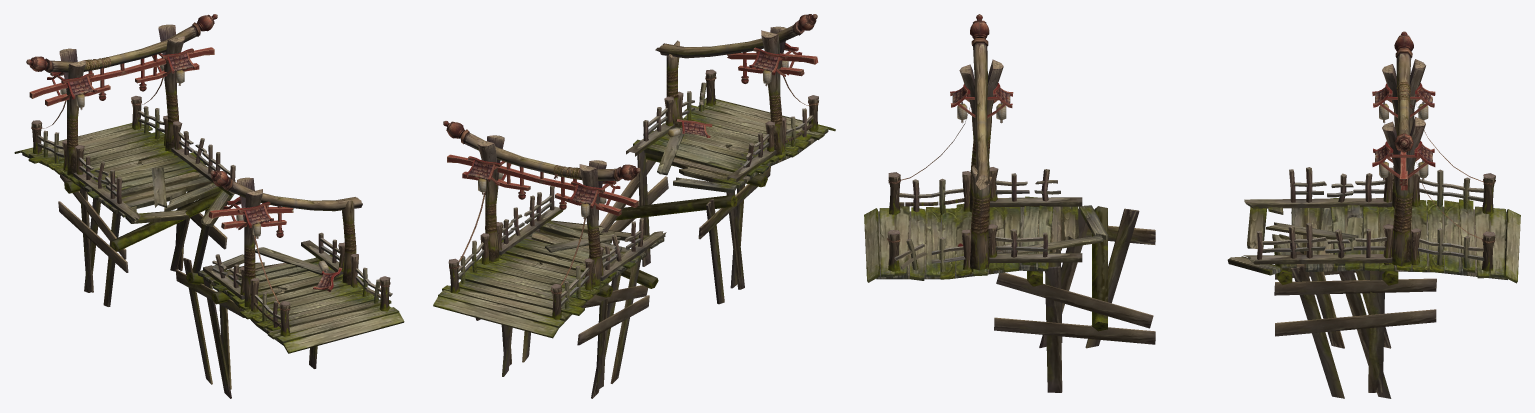
File: qiao.FBX
The picture shows the model from 3 angles, left to right: view 1: azimuth 30°, elevation 25°; view 2: azimuth 150°, elevation 25°; view 3: azimuth 270°, elevation 25°; orthographic projection. The views are drawn at different scales.
Parts seen in each view (by area): view 1: fls_building_bridge001; view 2: fls_building_bridge001; view 3: fls_building_bridge001.
Boxes of the visible parts, x1,y1,x2,y2 form: fls_building_bridge001: (14,14,404,398); fls_building_bridge001: (433,14,835,398); fls_building_bridge001: (864,14,1520,398).
Size of the model in its own units: 9.22 by 11.85 by 22.91.
